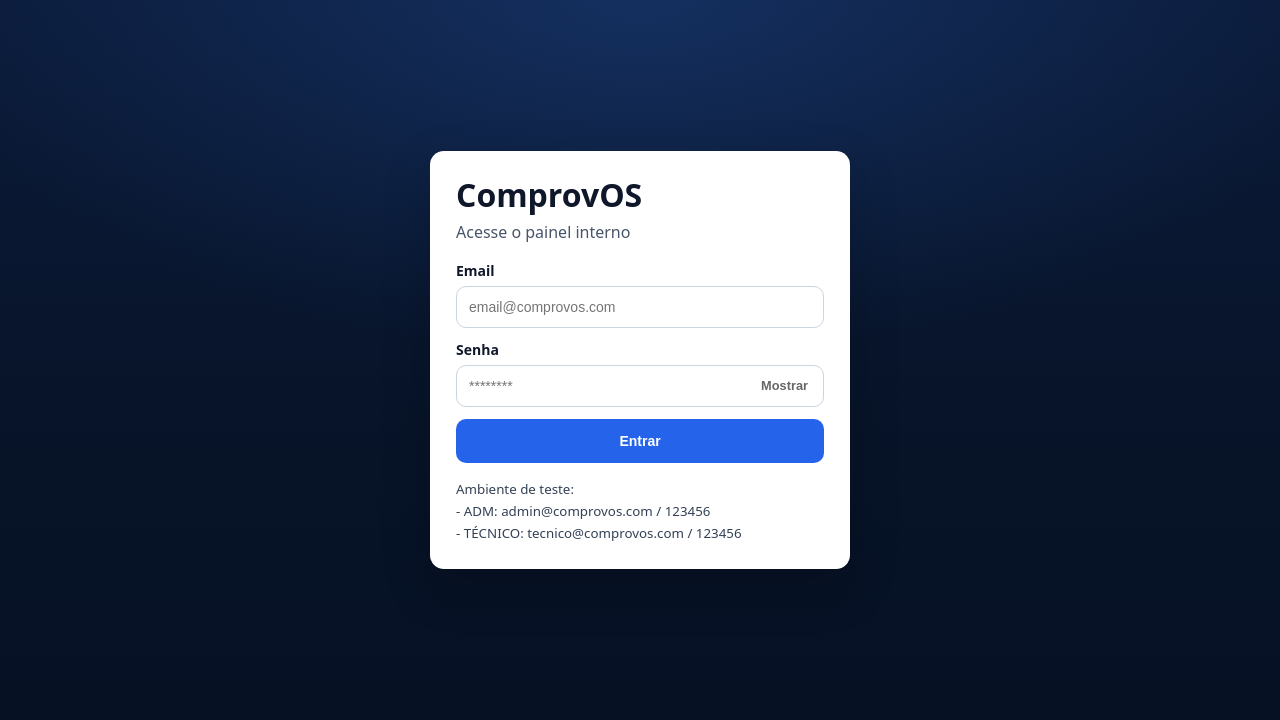
Test: LoginPage › deve exibir mensagem quando nÃ£o conseguir conectar ao servidor
Type "admin@comprovos.com" into the field labelled "Email".
click(640, 307); type("admin@comprovos.com")  # box [456,286,824,328]
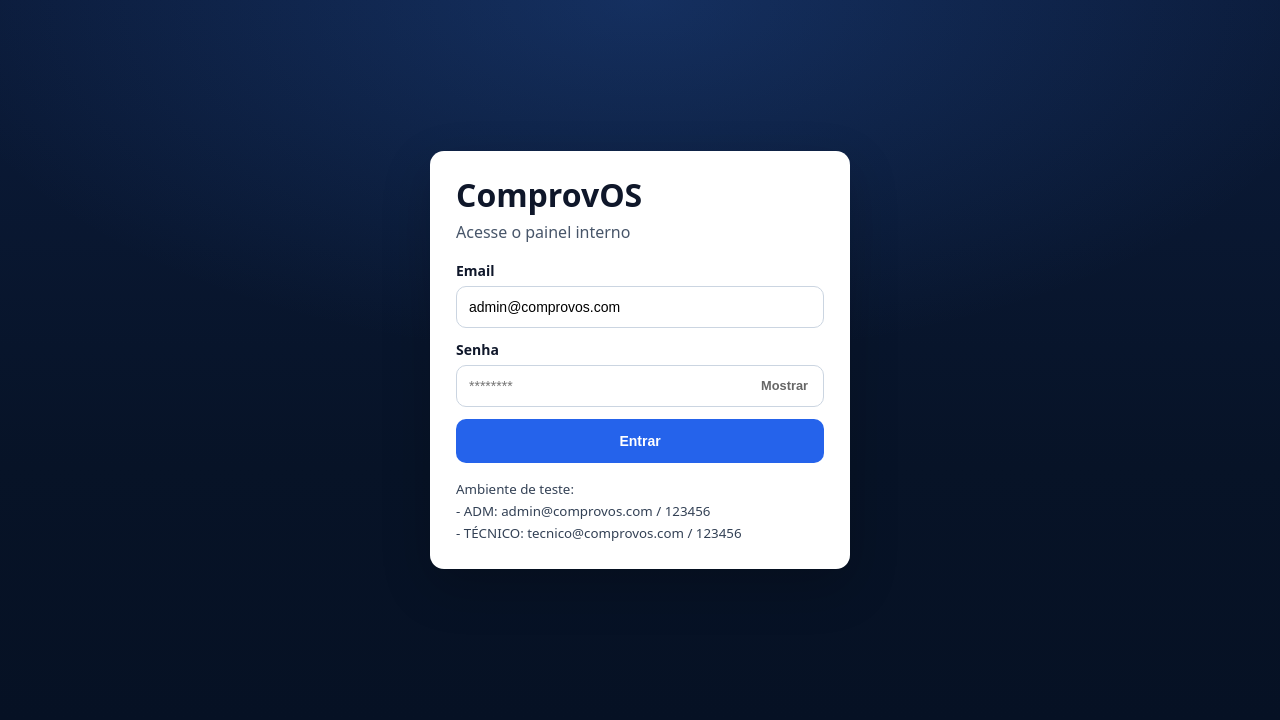
Type "123456" into the password field labelled "Senha Mostrar".
click(640, 386); type("123456")  # box [456,365,824,407]
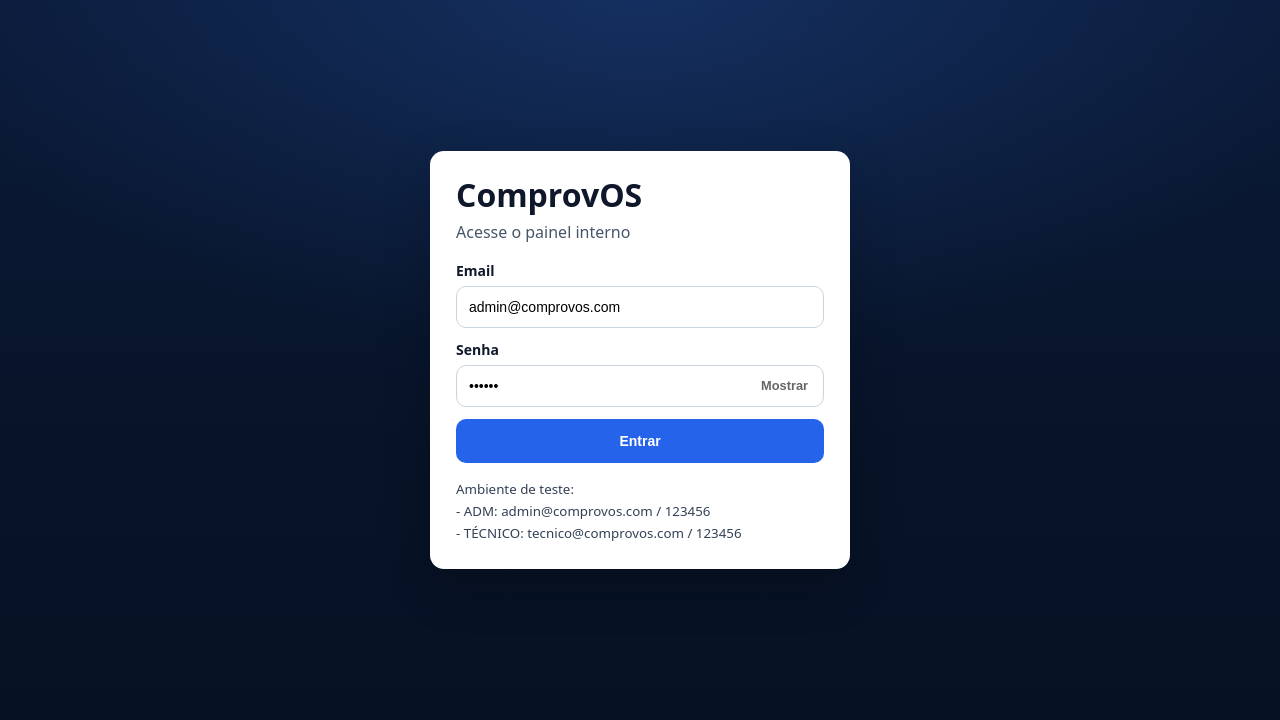
Click the button "Entrar".
click(640, 441)  # box [456,419,824,463]
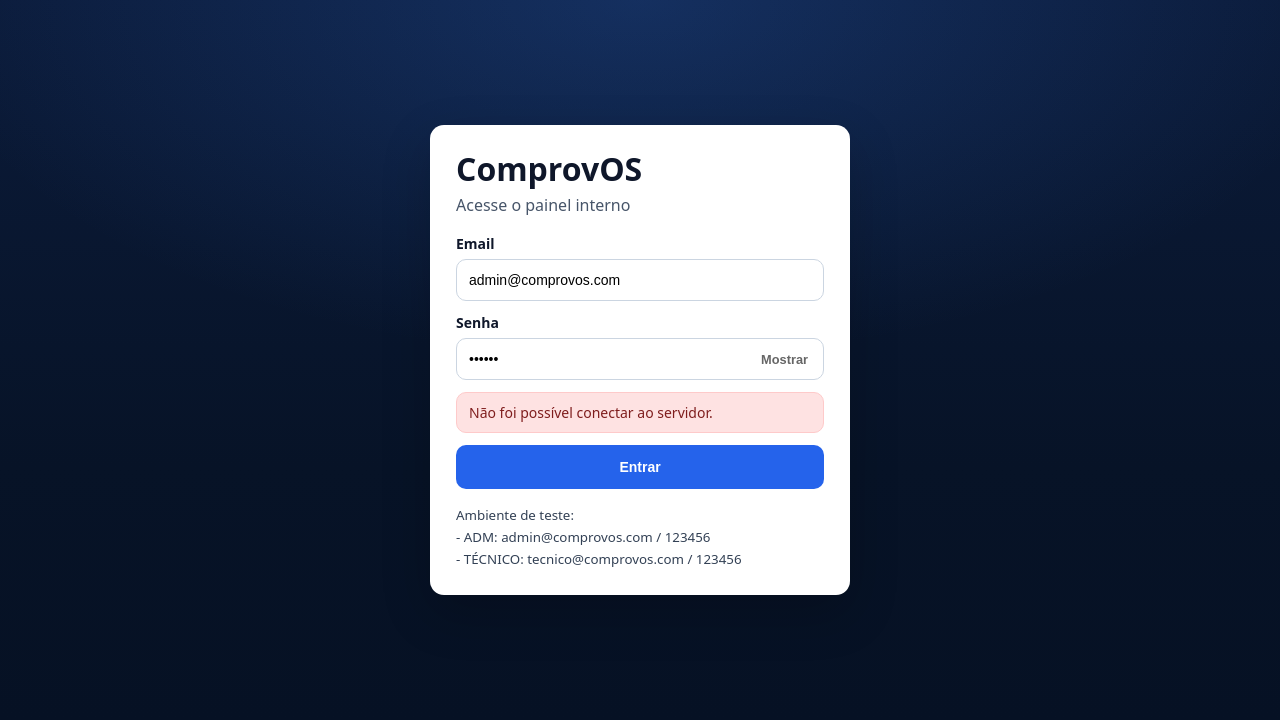
Check: the message reads "Não foi possível conectar ao servidor.", box [469,403,713,422]
